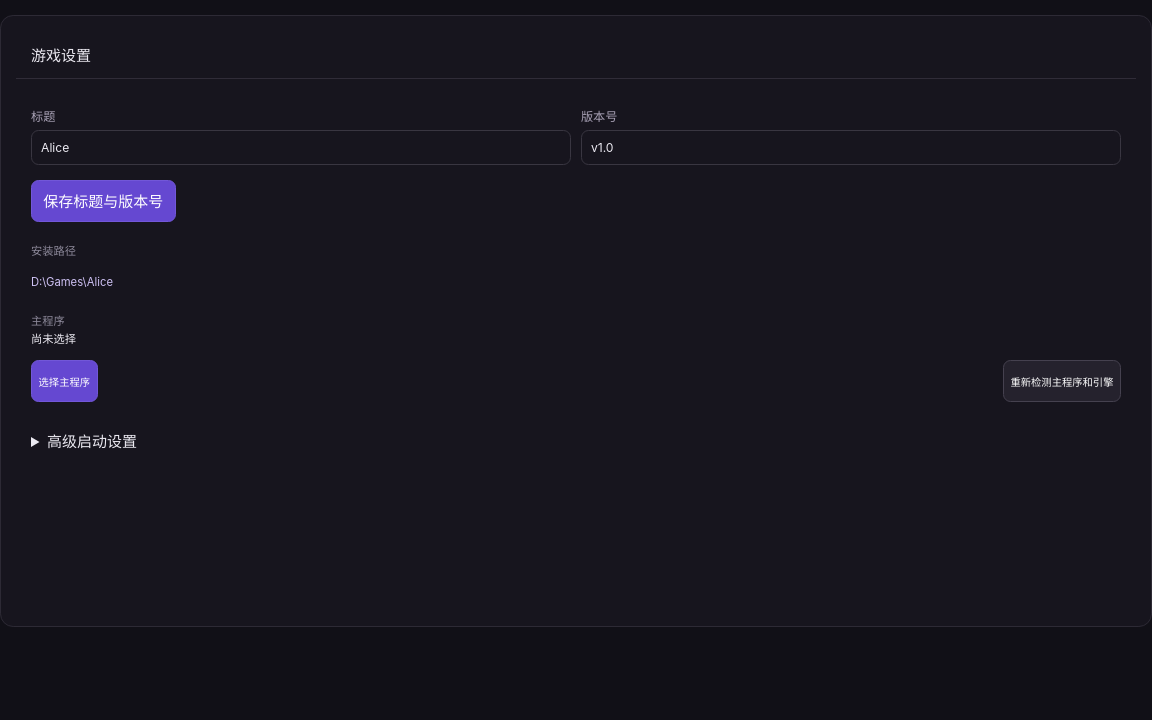
it: GameSettingsPanel › keeps both edited values when the atomic save fails
The image size is (1152, 720).
Replace the text in the field with test id "game-title-input" with "编辑中的标题": (301, 147) 31,130 -> 571,165
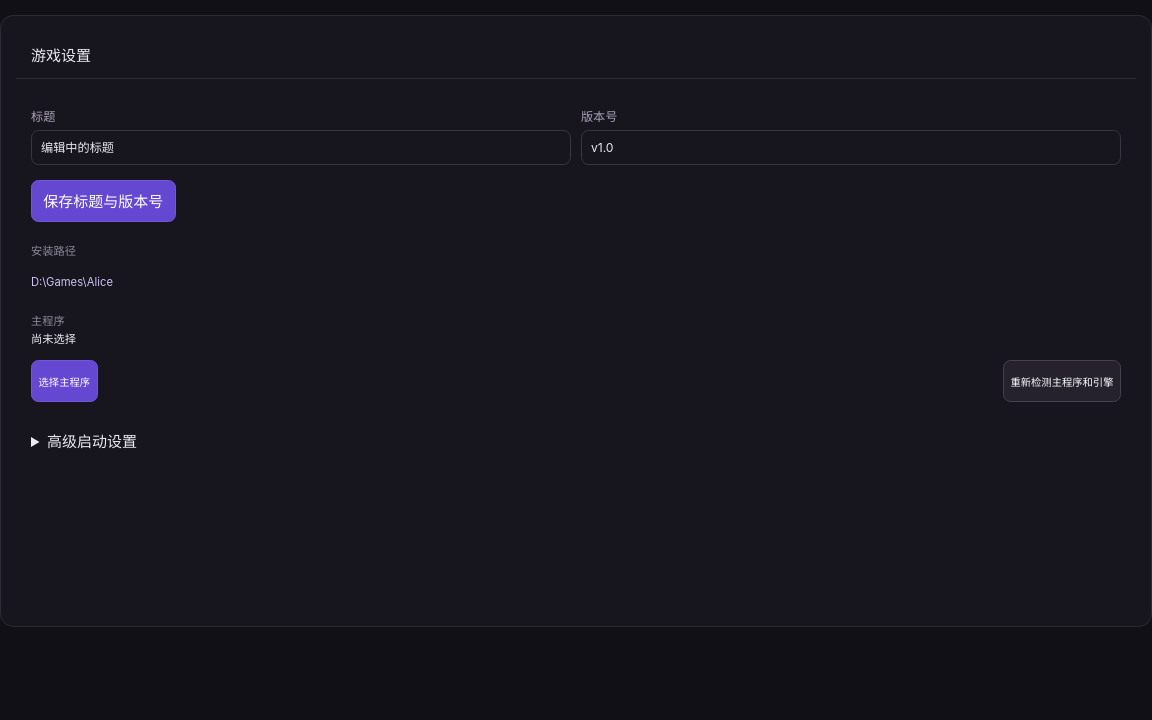
Replace the text in the field with test id "game-version-input" with "编辑中的版本": (851, 147) 581,130 -> 1121,165
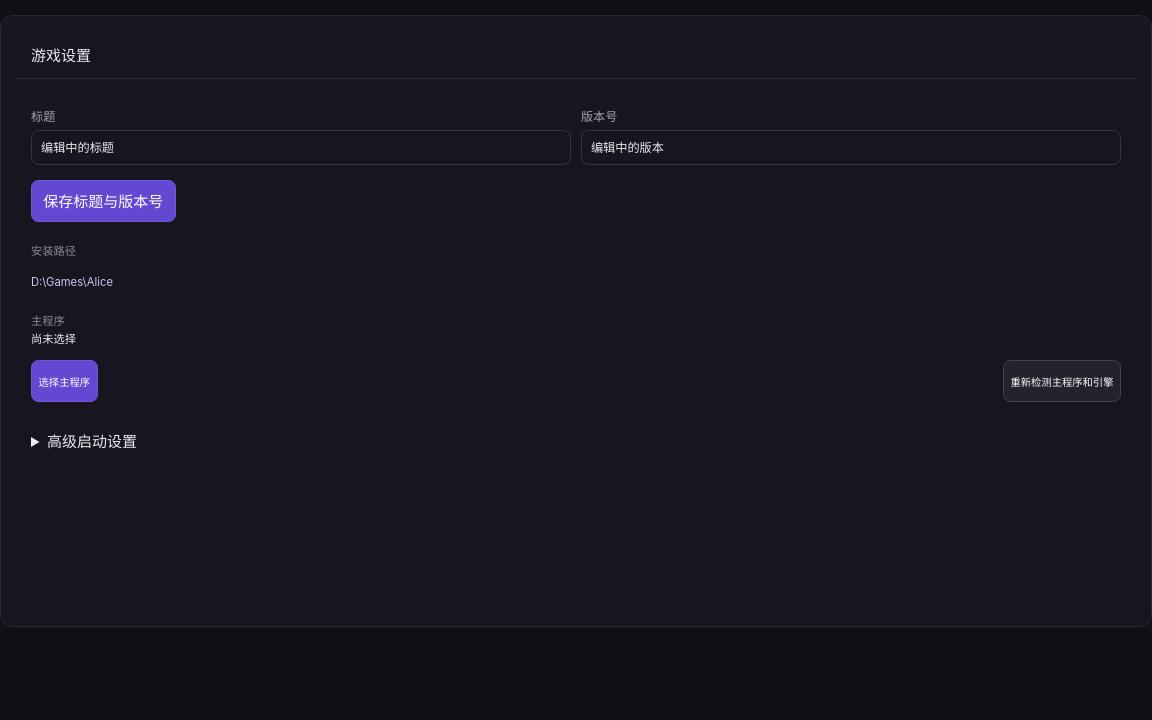
Click the button with test id "save-game-metadata": (103, 201) 31,180 -> 176,222
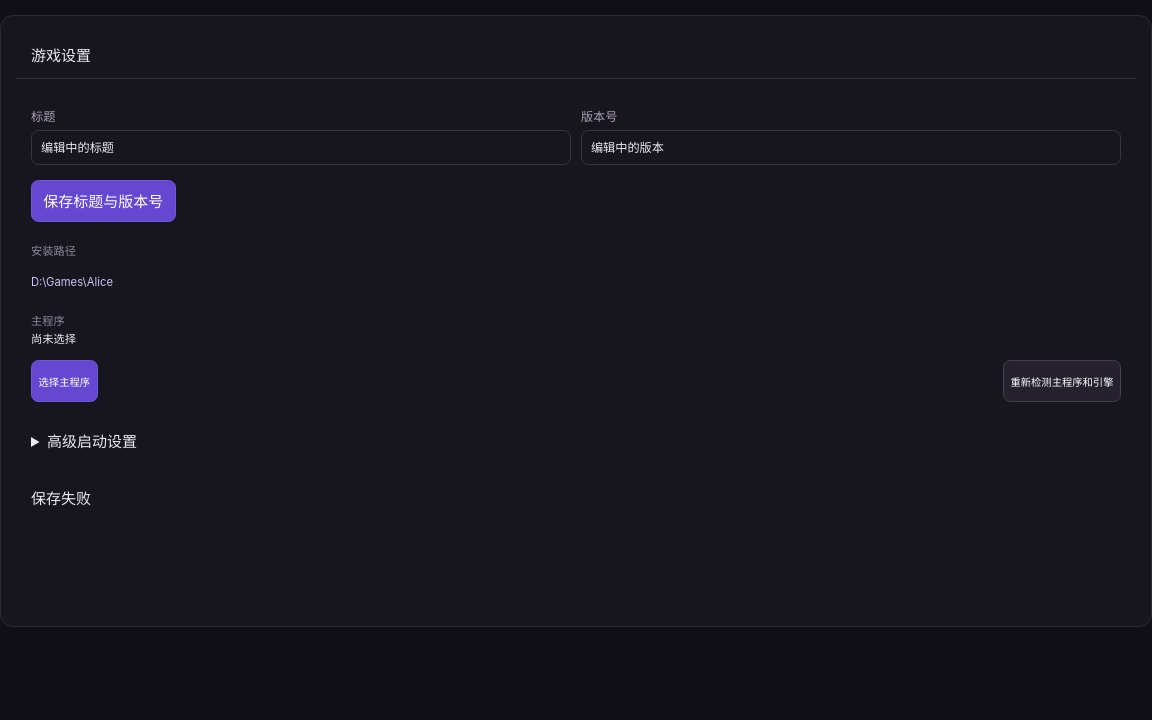
expect the text "保存失败" is shown: met, box 31,489 -> 91,508
